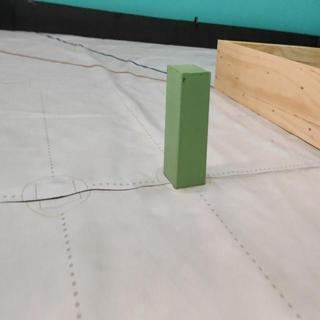greenbox: (163, 62, 213, 190)
